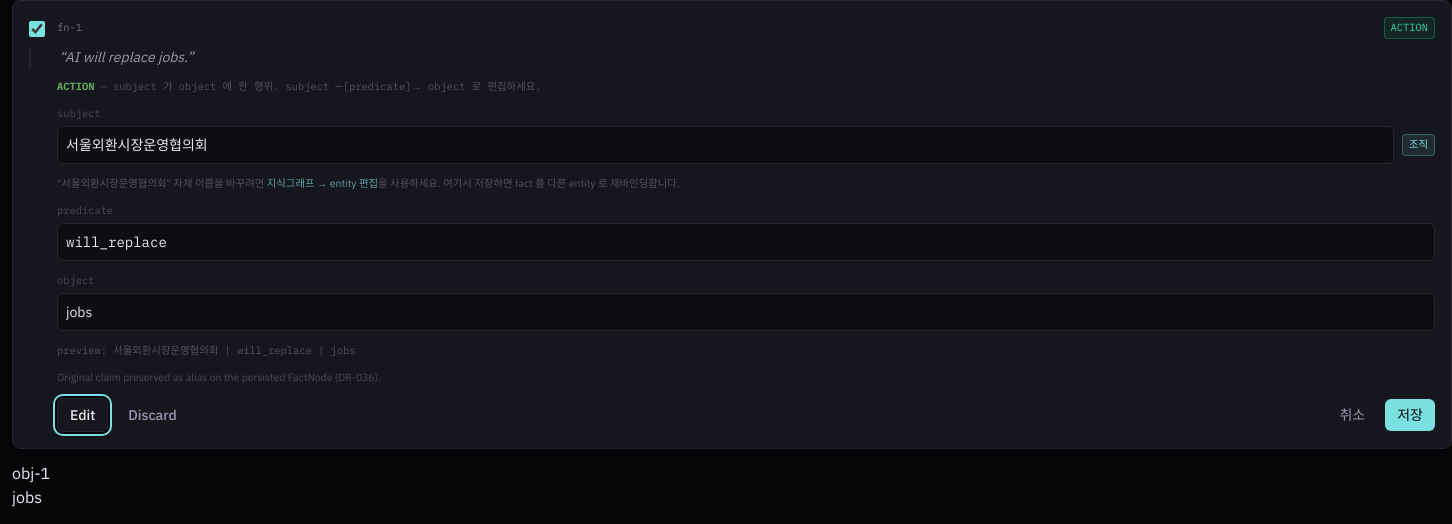
it: FactCard - decide-chip-click-bind: LIVE click path (parent re-renders) › LIVE subject chip click: no additional searchEntitySuggestions fires after chip click (gating still works)
Later steps or results of the test are not shown.
Replace the text in the field with test id "fact-edit-subject-fn-1" with "중국" at {"x": 725, "y": 145}, box x1=57 y1=126 x2=1394 y2=164
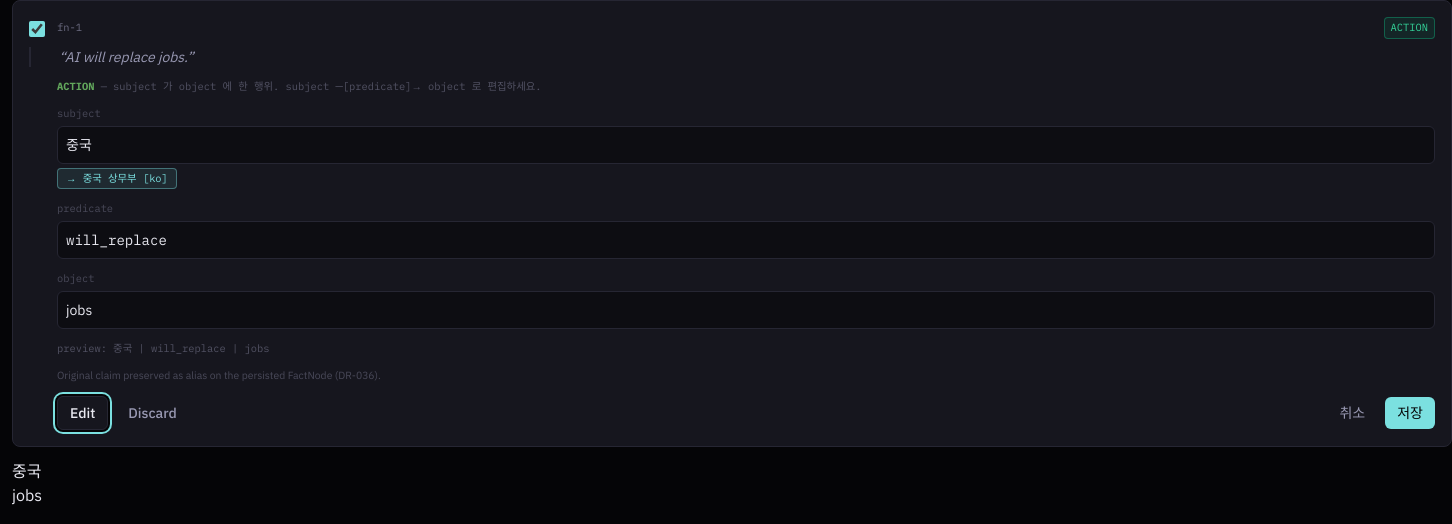
Expected: the button with test id "subject-chip-uuid-mocchina" is shown, x1=57 y1=168 x2=177 y2=189
